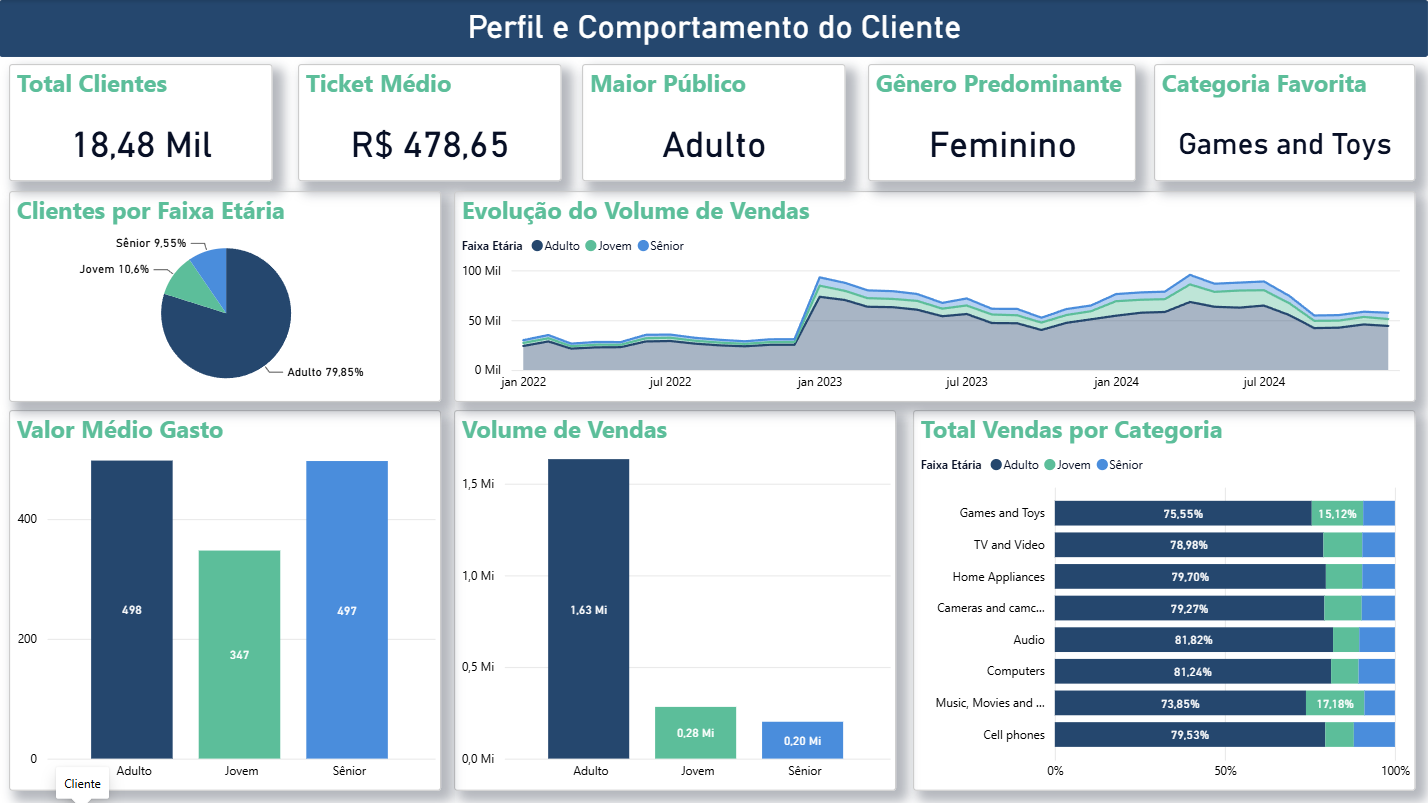

What the dashboard file says about the page in this screenshot:
{"tool":"powerbi","page":{"name":"Cliente","canvas":[1280,720],"ordinal":2},"visuals":[{"type":"columnChart","title":"Volume de Vendas","fields":{"Category":["Cadastro Clientes.Faixa Etária"],"Series":["Cadastro Clientes.Faixa Etária"],"Y":["Sum(Base Vendas.Qtd. Vendida)"]},"box":[407.5,367.2,395.8,341.2],"z":0},{"type":"textbox","box":[0,0,1279.7,51],"z":1000},{"type":"hundredPercentStackedBarChart","title":"Total Vendas por Categoria","fields":{"Category":["Cadastro Produtos.Categoria"],"Series":["Cadastro Clientes.Faixa Etária"],"Y":["Base Vendas.Total Vendas"]},"box":[818.5,367.2,449.6,341.2],"z":2000},{"type":"columnChart","title":"Valor Médio Gasto","fields":{"Category":["Cadastro Clientes.Faixa Etária"],"Series":["Cadastro Clientes.Faixa Etária"],"Y":["Base Vendas.Ticket Médio"]},"box":[9,367.2,386.9,341.2],"z":3000},{"type":"cardVisual","title":"Total Clientes","fields":{"Data":["Base Vendas.Qtd Clientes"]},"box":[9,57.3,235.5,104.8],"z":4000},{"type":"cardVisual","title":"Ticket Médio","fields":{"Data":["Base Vendas.Ticket Médio"]},"box":[267.8,57.3,235.5,104.8],"z":5000},{"type":"cardVisual","title":"Maior Público","fields":{"Data":["Cadastro Clientes.Maior Público"]},"box":[522.1,57.3,235.5,104.8],"z":6000},{"type":"cardVisual","title":"Categoria Favorita","fields":{"Data":["Base Vendas.Categoria Favorita"]},"box":[1034.3,57.3,233.7,104.8],"z":7000},{"type":"pieChart","title":"Clientes por Faixa Etária","fields":{"Category":["Cadastro Clientes.Faixa Etária"],"Y":["Base Vendas.Qtd Clientes"]},"box":[9,171,386.9,189],"z":8000},{"type":"stackedAreaChart","title":"Evolução do Volume de Vendas ","fields":{"Category":["Base Vendas.Data Venda.Variation.Hierarquia de datas.Ano","Base Vendas.Data Venda.Variation.Hierarquia de datas.Mês"],"Series":["Cadastro Clientes.Faixa Etária"],"Y":["Sum(Base Vendas.Qtd. Vendida)"]},"box":[407.5,171,860.6,189],"z":9000},{"type":"cardVisual","title":"Gênero Predominante","fields":{"Data":["Min(Cadastro Clientes.Genero)"]},"box":[778.2,57.3,240,104.8],"z":10000}]}

Visuals, with their boxes in screenshot pixels (x1, y1, x2, y2), scaled from the page's 1280x720 canvas onto the 1428x803 screenshot:
"Volume de Vendas" columnChart: rect(455, 410, 896, 790)
textbox: rect(0, 0, 1427, 57)
"Total Vendas por Categoria" hundredPercentStackedBarChart: rect(913, 410, 1415, 790)
"Valor Médio Gasto" columnChart: rect(10, 410, 442, 790)
"Total Clientes" cardVisual: rect(10, 64, 273, 181)
"Ticket Médio" cardVisual: rect(299, 64, 561, 181)
"Maior Público" cardVisual: rect(582, 64, 845, 181)
"Categoria Favorita" cardVisual: rect(1154, 64, 1415, 181)
"Clientes por Faixa Etária" pieChart: rect(10, 191, 442, 402)
"Evolução do Volume de Vendas " stackedAreaChart: rect(455, 191, 1415, 402)
"Gênero Predominante" cardVisual: rect(868, 64, 1136, 181)
